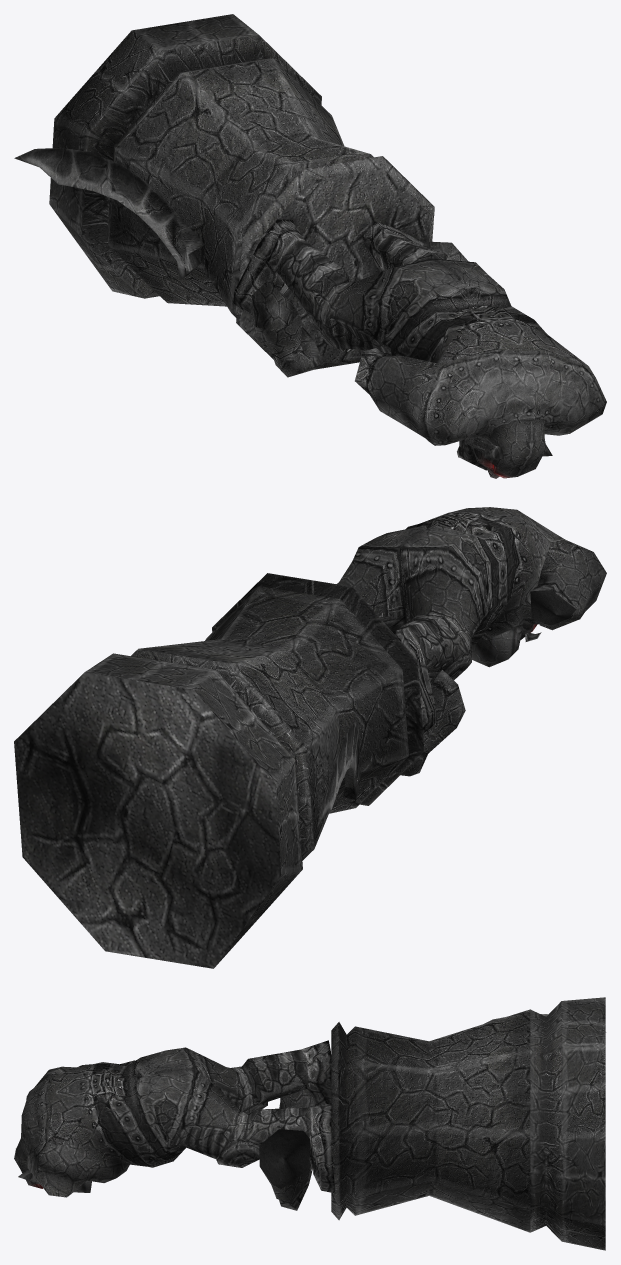
Rendered from statue-Orc-02.obj.
The picture shows the model from 3 angles, top to bottom: view 1: azimuth 30°, elevation 25°; view 2: azimuth 150°, elevation 25°; view 3: azimuth 270°, elevation 25°; orthographic projection. The views are drawn at different scales.
Parts seen in each view (by area): view 1: (null); view 2: (null); view 3: (null).
Part boxes in pixels (x1,y1,x2,y2): (null): (14, 14, 606, 478); (null): (14, 507, 606, 968); (null): (14, 997, 606, 1250).
Size of the model in its own units: 2.82 by 2.5 by 6.12.
